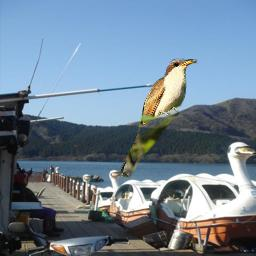Cuckoo: (117, 56, 198, 180)
